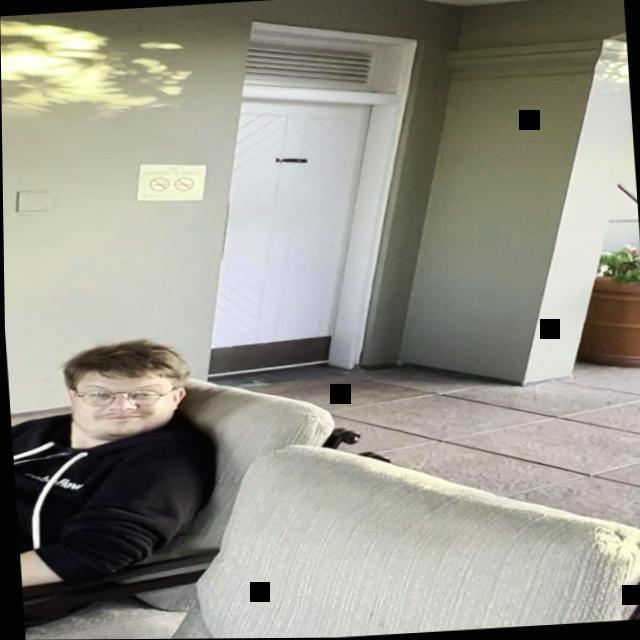NO-Mask: (68, 367, 175, 439)
